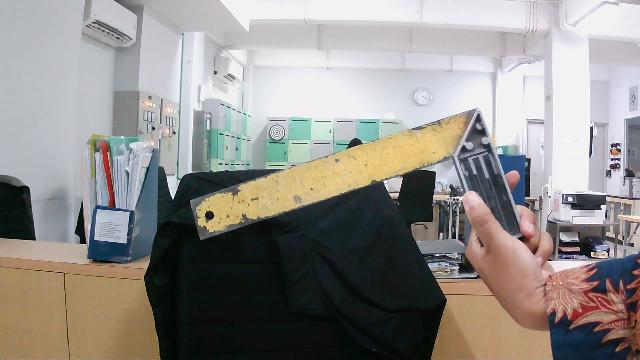penggaris_siku: (182, 99, 535, 271)
